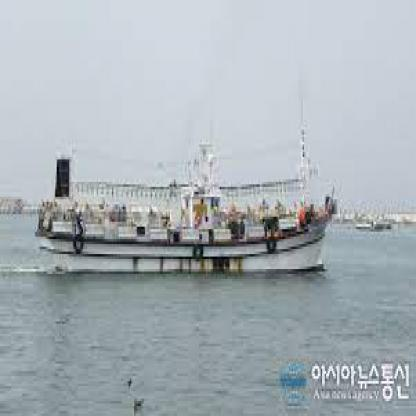fish-b: (29, 134, 343, 284)
